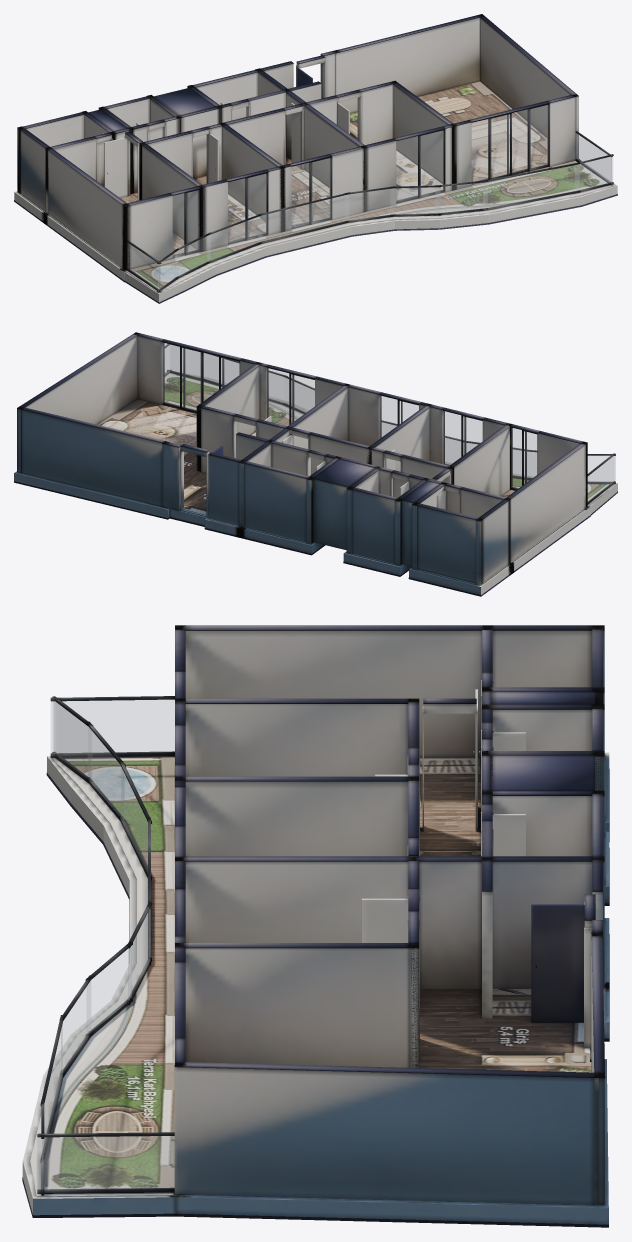
3 views of the same model, one above another, from view 1: azimuth 30°, elevation 25°; view 2: azimuth 150°, elevation 25°; view 3: azimuth 270°, elevation 25° (orthographic). The views are drawn at different scales.
Visible parts, largest first — view 1: plan, glass4_m, glass3_m, railg3_m, railg1_m, glass2_m, glass1_m, railg7_m, glass0_m, railg4_m, railg5_m, railg6_m (+5 smaller); view 2: plan, glass4_m, glass3_m, glass1_m, glass0_m, railg3_m, glass2_m, railg10_m, railg9_m, railg2_m, railg4_m, railg1_m; view 3: plan, railg0_m, railg10_m, railg5_m, railg9_m, railg8_m, railg4_m, railg7_m, railg6_m, railg3_m.
Boxes of the visible parts, x1,y1,x2,y2 form: plan: (14,14,617,303); glass4_m: (472,105,547,181); glass3_m: (396,131,443,200); railg3_m: (483,164,579,208); railg1_m: (258,195,349,241); glass2_m: (292,158,330,226); glass1_m: (228,174,266,242); railg7_m: (207,216,261,261); glass0_m: (173,190,199,255); railg4_m: (435,182,487,213); railg5_m: (391,187,440,214); railg6_m: (345,188,394,220); plan: (14,332,617,596); glass4_m: (163,343,239,410); glass3_m: (267,368,314,425); glass1_m: (443,411,482,465); glass0_m: (511,428,536,488); railg3_m: (205,354,282,401); glass2_m: (380,396,418,437); railg10_m: (588,456,613,501); railg9_m: (588,456,615,481); railg2_m: (170,345,199,377); railg4_m: (285,378,314,411); railg1_m: (382,423,467,464); plan: (22,625,609,1227); railg0_m: (37,1136,174,1189); railg10_m: (51,700,174,753); railg5_m: (87,946,131,1034); railg9_m: (54,702,91,780); railg8_m: (88,727,124,820); railg4_m: (61,981,90,1073); railg7_m: (121,767,147,870); railg6_m: (128,909,150,1000); railg3_m: (43,1025,62,1152).
Size of the model in its own units: 17.29 by 2.62 by 9.41.
Materials: 2 (1 with a texture image).
